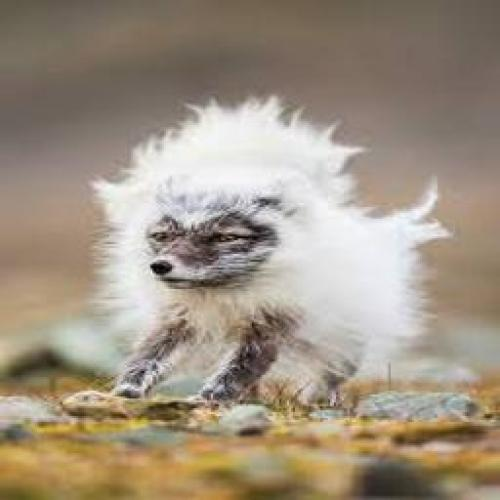arctic_fox-endangered: (93, 96, 451, 409)
